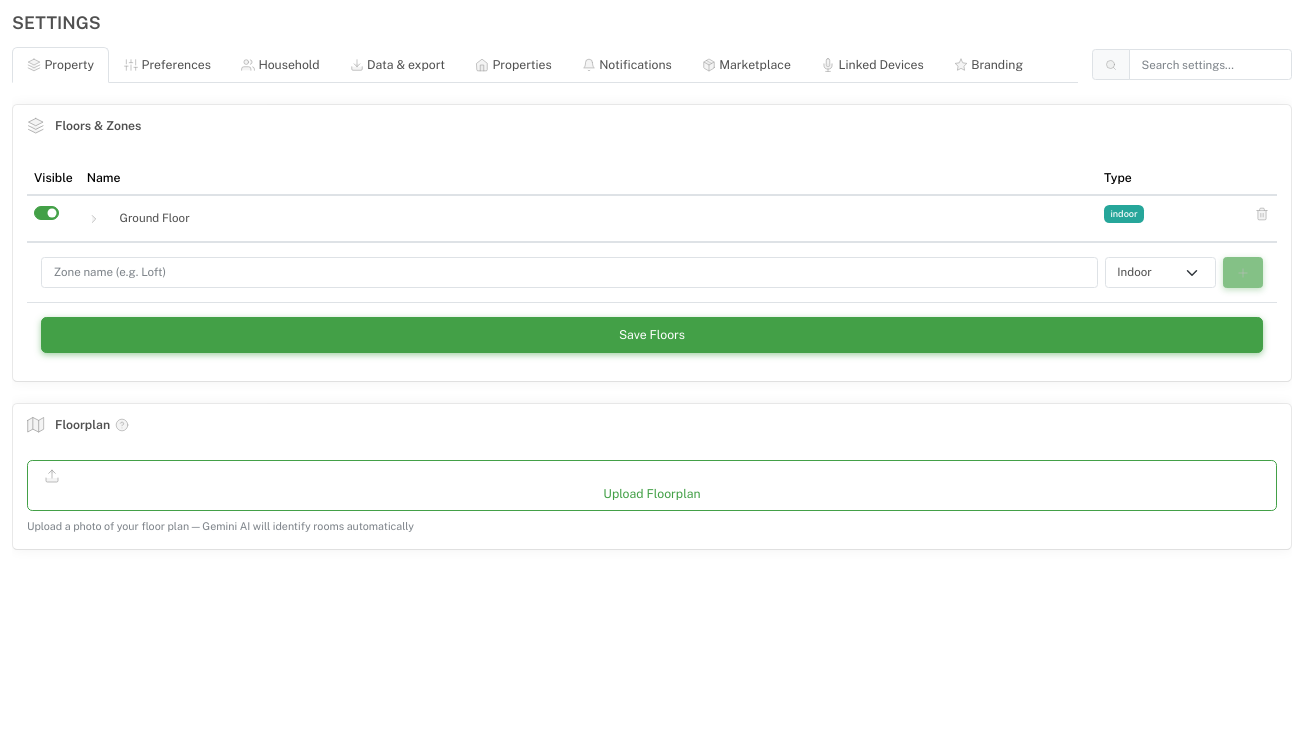
Test case: SettingsPage tabs › exercises the floor edit handlers (visibility, rename, type toggle)
The width and height of the screenshot is (1304, 732).
# Floor visibility switch
Step 1. Click the checkbox named "Show floor Ground Floor" → (46, 213), box [34, 206, 58, 220]
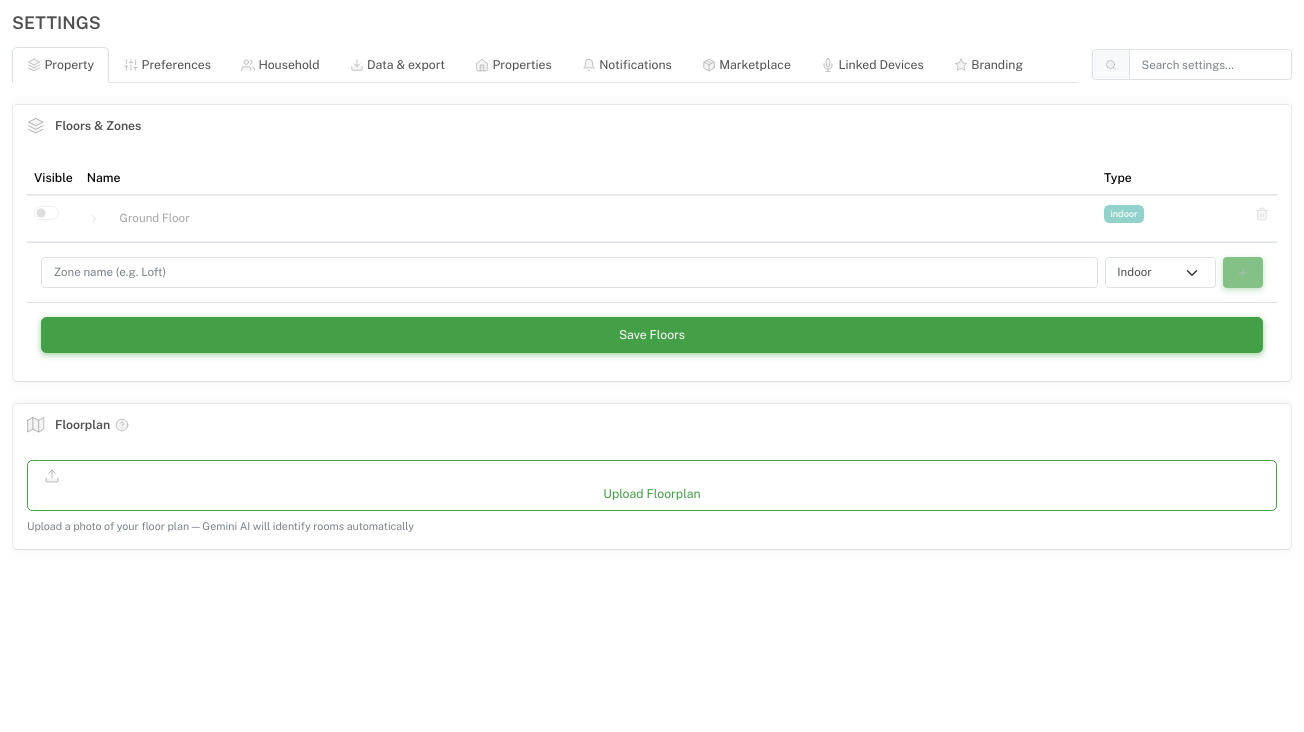
# Floor rename
Step 2. Replace the text in the field named "Floor name" with "New Ground Floor" → (599, 219), box [108, 203, 1090, 234]
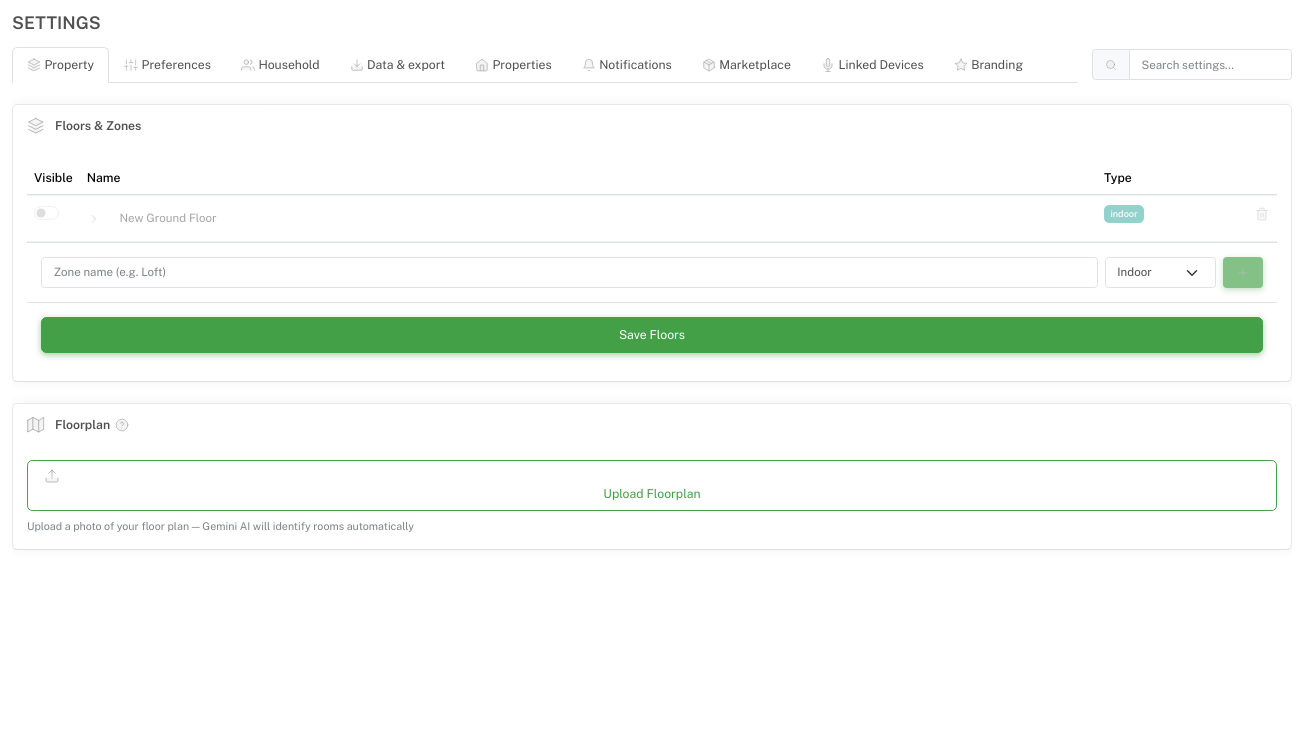
# Floor type toggle
Step 3. Click the button with aria-label "Toggle floor type" → (1124, 214), box [1104, 205, 1144, 223]
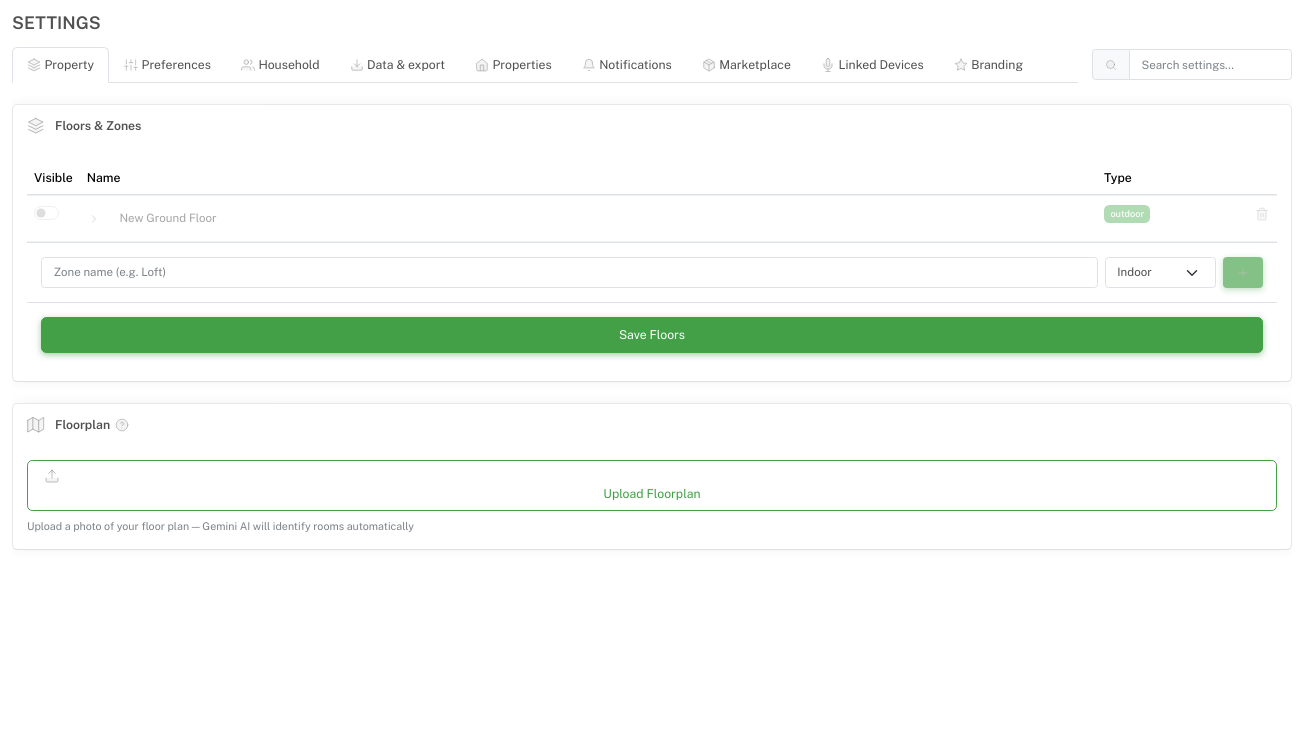
# Cancel-delete branch
Step 4. Click the button named "Delete floor" → (1262, 214), box [1254, 206, 1270, 222]
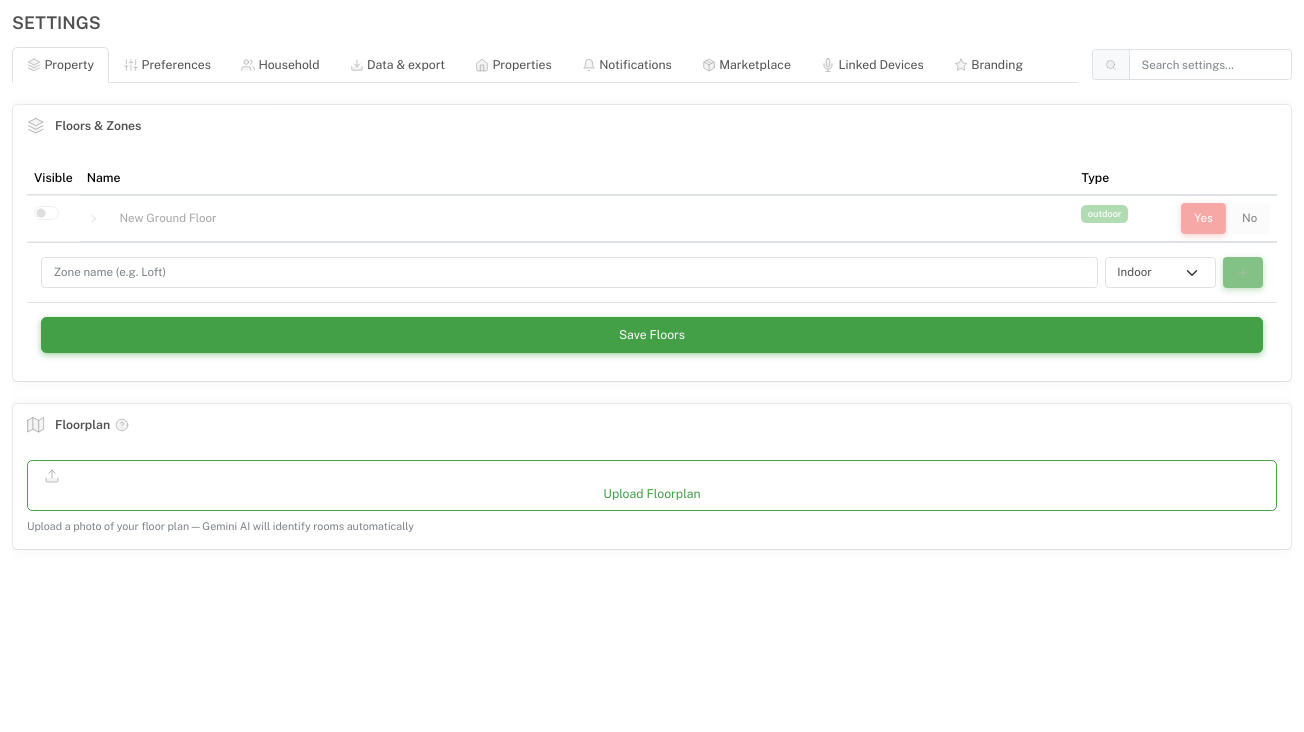
Step 5. Click the button with aria-label "Cancel delete" → (1250, 219), box [1229, 203, 1270, 234]
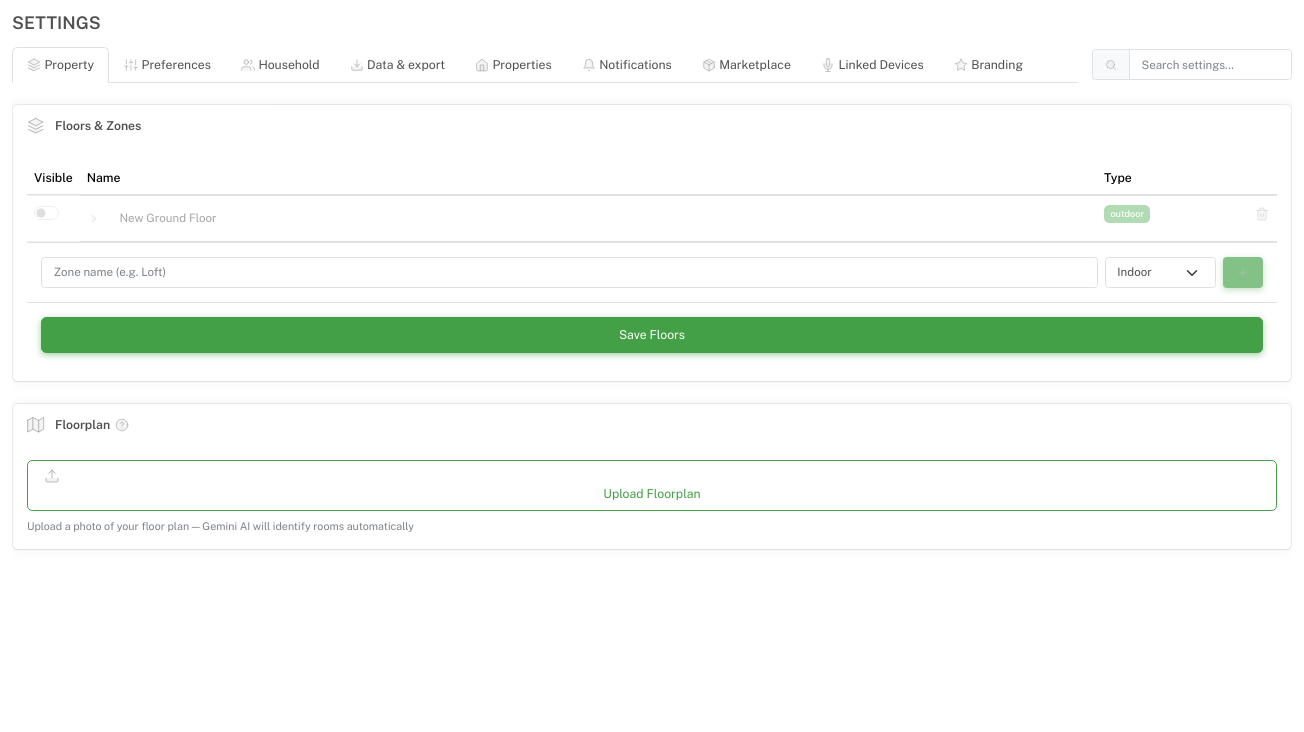
Check: the button named "Delete floor" is shown, box [1254, 206, 1270, 222]
